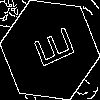E: (25, 25, 76, 74)
